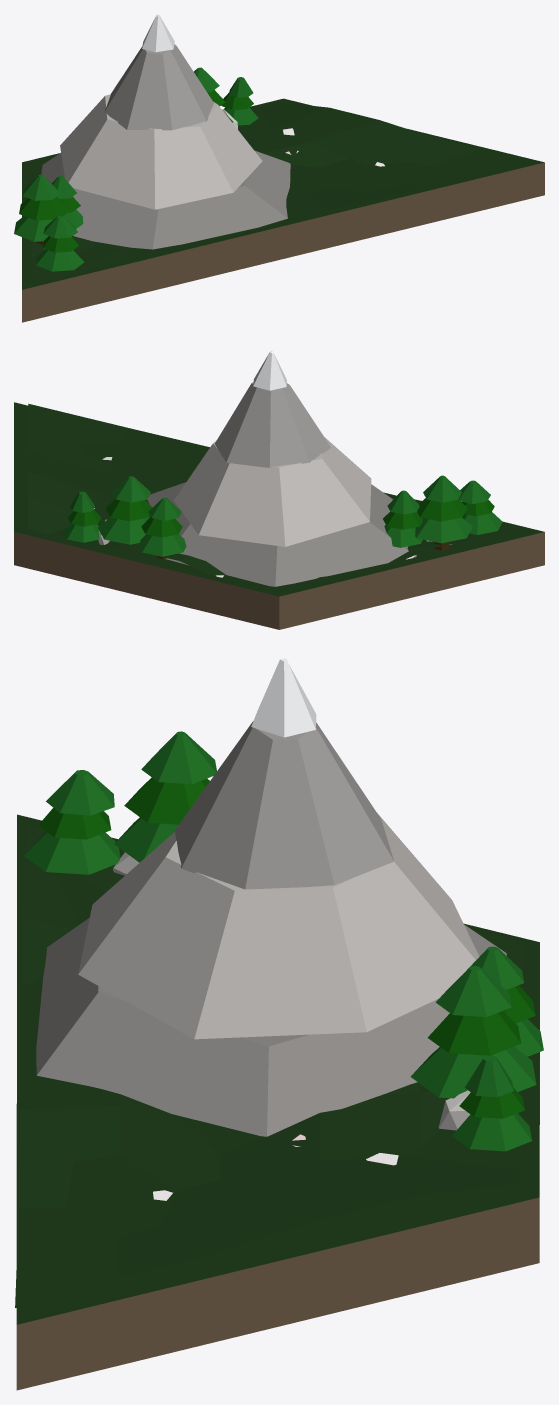
The model's file is mountain_half_sprint2_tryfix.glb.
The picture shows the model from 3 angles, top to bottom: view 1: azimuth 30°, elevation 25°; view 2: azimuth 150°, elevation 25°; view 3: azimuth 270°, elevation 25°; orthographic projection. The views are drawn at different scales.
Parts seen in each view (by area): view 1: DiagonalSplitBase, Terrain, Fuji_1, Fuji_0, Fuji_2, PineCone_10_1, PineCone_30_0, Fuji_3, PineCone_10_0, PineCone_10_2, PineCone_30_2, PineCone_30_1 (+1 smaller); view 2: DiagonalSplitBase, Fuji_1, Terrain, Fuji_0, Fuji_2, PineCone_10_0, PineCone_20_0, PineCone_10_1, PineCone_21_0, Fuji_3, PineCone_20_1, PineCone_10_2 (+12 smaller); view 3: DiagonalSplitBase, Terrain, Fuji_1, Fuji_0, Fuji_2, PineCone_20_0, Fuji_3, PineCone_20_1, PineCone_30_0, PineCone_10_2, PineCone_10_1, PineCone_20_2 (+7 smaller).
Part boxes in pixels (box(x1,y1,x2,y2)): DiagonalSplitBase: box(22, 98, 544, 322); Terrain: box(30, 102, 530, 284); Fuji_1: box(60, 94, 262, 209); Fuji_0: box(41, 150, 290, 249); Fuji_2: box(104, 44, 213, 130); PineCone_10_1: box(19, 196, 70, 220); PineCone_30_0: box(36, 249, 84, 271); Fuji_3: box(142, 14, 174, 52); PineCone_10_0: box(14, 216, 52, 241); PineCone_10_2: box(22, 174, 60, 200); PineCone_30_2: box(43, 215, 77, 238); PineCone_30_1: box(42, 236, 78, 252); DiagonalSplitBase: box(14, 402, 544, 629); Fuji_1: box(174, 437, 371, 546); Terrain: box(28, 403, 529, 590); Fuji_0: box(147, 482, 416, 586); Fuji_2: box(214, 382, 331, 467); PineCone_10_0: box(415, 517, 472, 543); PineCone_20_0: box(98, 517, 149, 544); PineCone_10_1: box(417, 498, 467, 521); PineCone_21_0: box(137, 534, 186, 556); Fuji_3: box(253, 351, 286, 390); PineCone_20_1: box(105, 499, 152, 521); PineCone_10_2: box(423, 475, 461, 502); DiagonalSplitBase: box(16, 814, 539, 1390); Terrain: box(15, 826, 523, 1307); Fuji_1: box(78, 813, 479, 1039); Fuji_0: box(36, 918, 506, 1136); Fuji_2: box(174, 721, 393, 889); PineCone_20_0: box(410, 1046, 536, 1098); Fuji_3: box(251, 658, 316, 737); PineCone_20_1: box(427, 1011, 521, 1055); PineCone_30_0: box(24, 832, 120, 874); PineCone_10_2: box(141, 731, 216, 784); PineCone_10_1: box(124, 777, 209, 824); PineCone_20_2: box(436, 966, 511, 1016).
Bounding box in the file's own units: 5 × 1.91 × 2.19.
